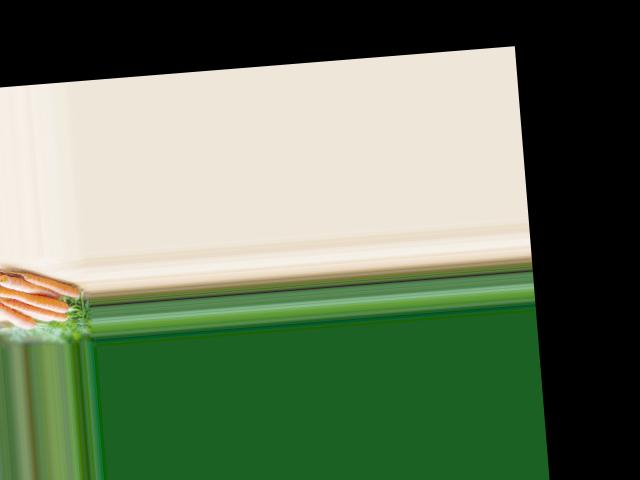carrot: (15, 258, 82, 300)
